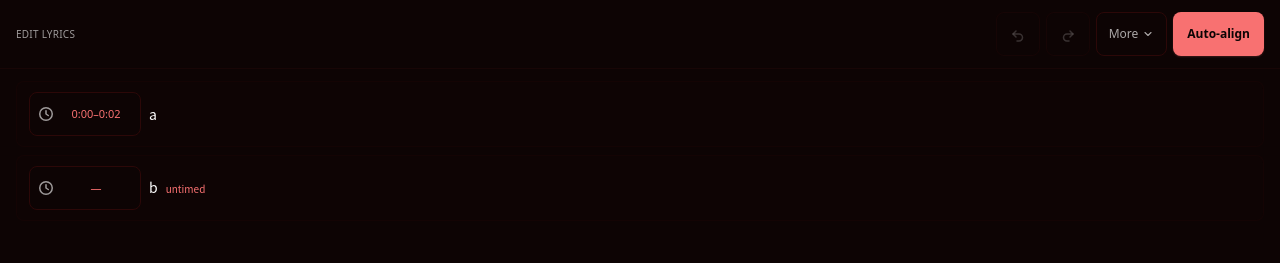
Test case: EditMode — single-row toolbar hierarchy › tucks Replace / Tap-through / Translation behind a collapsed More menu
Expected: the button "replace lyrics" is not shown
Expected: the button "tap-through" is not shown
What coordinates should you click on to do the following:
click the button "More"
I would click on:
 (1131, 34)
Its box is [1096,12,1167,56].
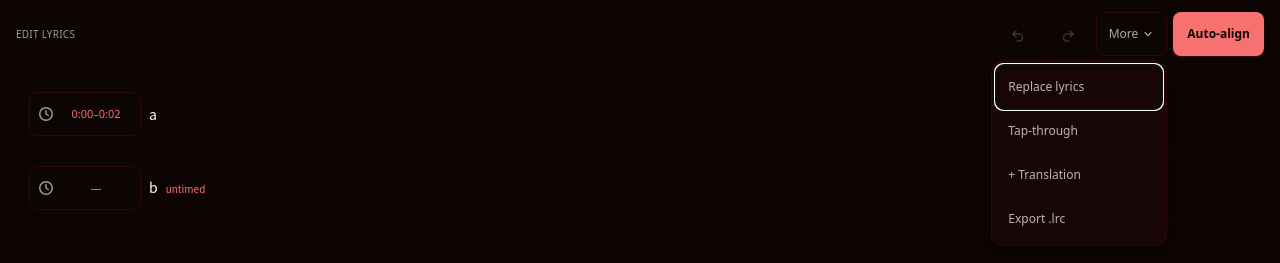
Expected: the button "Replace lyrics" is shown, [996,65,1162,109]
Expected: the button "Tap-through" is shown, [996,109,1162,153]
Expected: the button "+ Translation" is shown, [996,153,1162,197]
